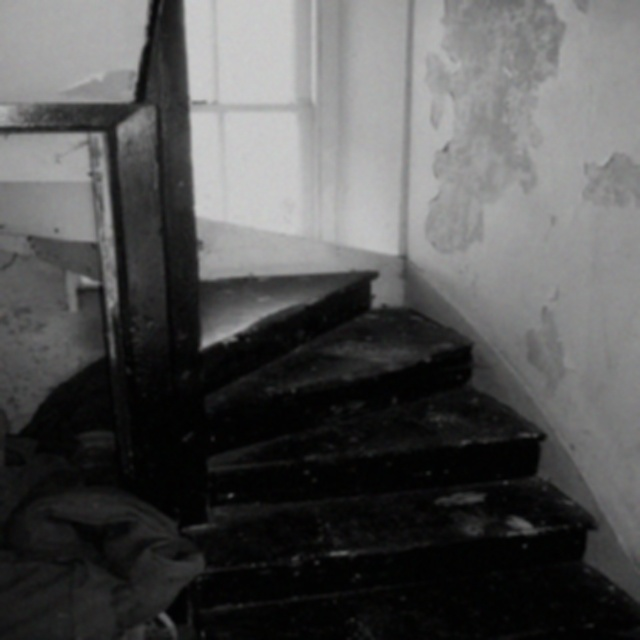stair: (203, 275, 640, 640)
